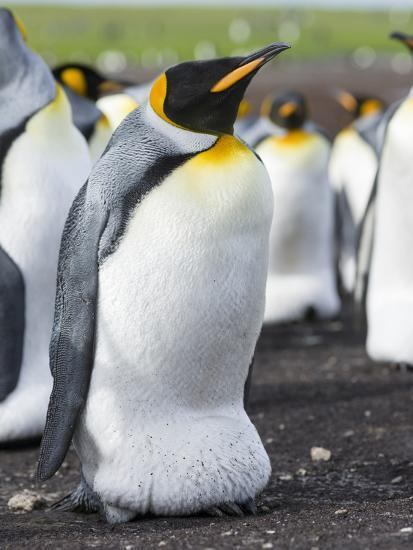king: (12, 25, 315, 520)
